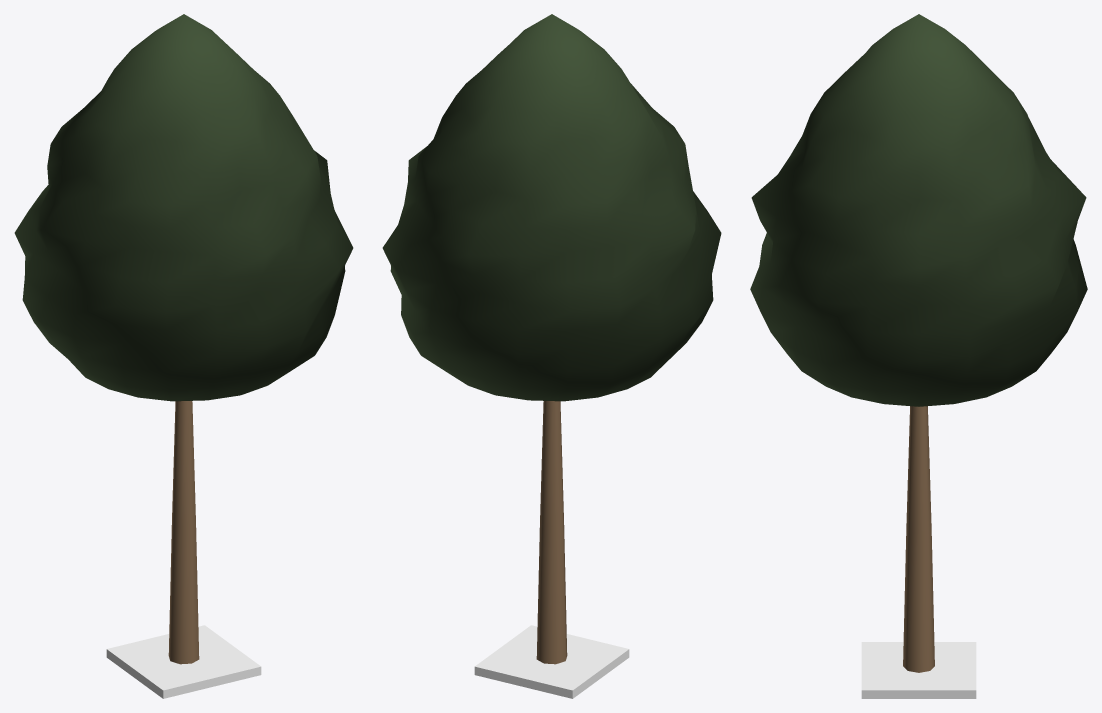
3 renders of one model, left to right at view 1: azimuth 30°, elevation 25°; view 2: azimuth 150°, elevation 25°; view 3: azimuth 270°, elevation 25°, orthographic.
Visible parts, largest first — view 1: 465; view 2: 465; view 3: 465.
Boxes of the visible parts, x1,y1,x2,y2 form: 465: (14, 14, 353, 698); 465: (382, 14, 721, 698); 465: (750, 14, 1087, 698).
Size of the model in its own units: 2.5 by 5.4 by 2.5.
